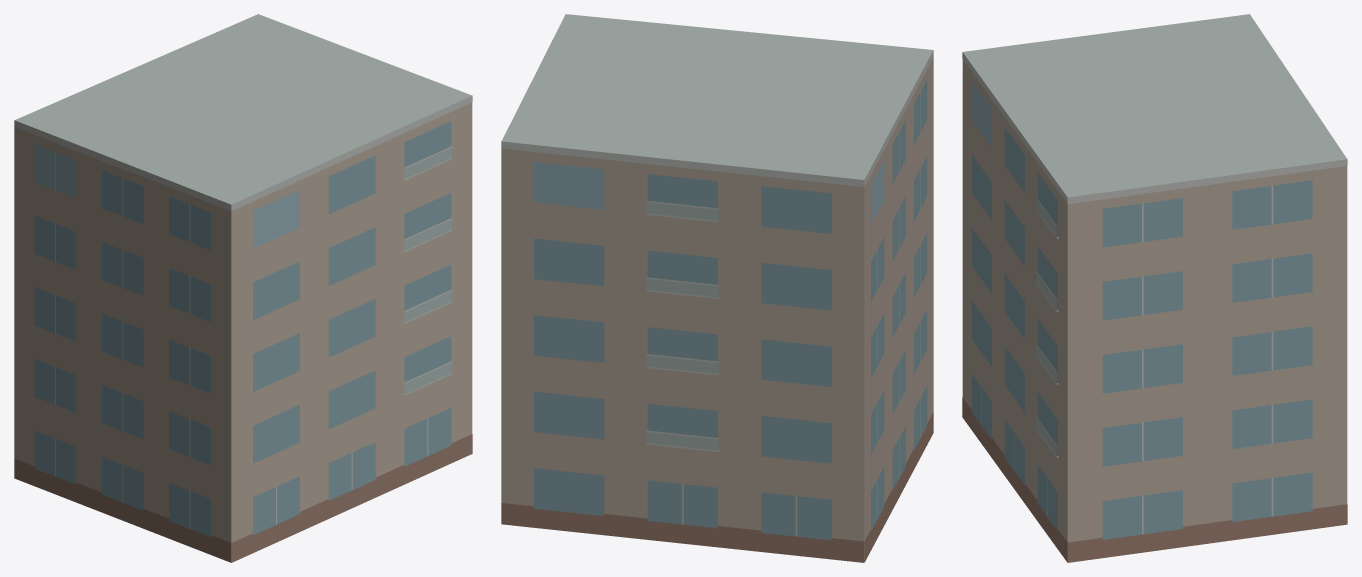
The model's file is survey-upis-32537188.glb.
The picture shows the model from 3 angles, left to right: view 1: azimuth 30°, elevation 25°; view 2: azimuth 150°, elevation 25°; view 3: azimuth 270°, elevation 25°; orthographic projection. The views are drawn at different scales.
Parts seen in each view (by area): view 1: survey-upis-32537188.tmp; view 2: survey-upis-32537188.tmp; view 3: survey-upis-32537188.tmp.
Part boxes in pixels (<box>): survey-upis-32537188.tmp: <box>14,14,472,562</box>; survey-upis-32537188.tmp: <box>501,14,933,562</box>; survey-upis-32537188.tmp: <box>962,14,1347,562</box>.
Size of the model in its own units: 14.23 by 13.2 by 12.62.
